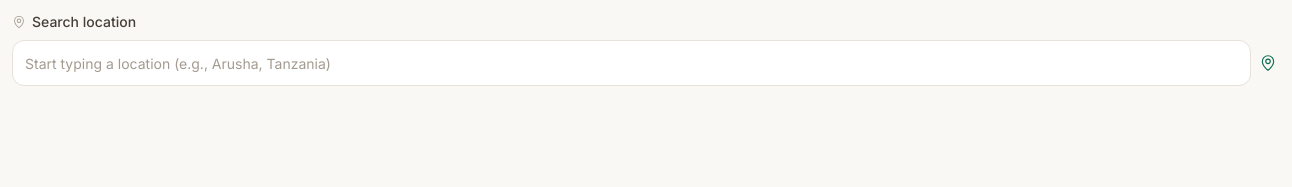
Test case: LocationAutocomplete › clears input when clear button is clicked
Step 1. Type "Ar" into the dropdown with placeholder "Start typing a location (e.g., Arusha, Tanzania)" → (632, 63), box [12,40,1251,86]
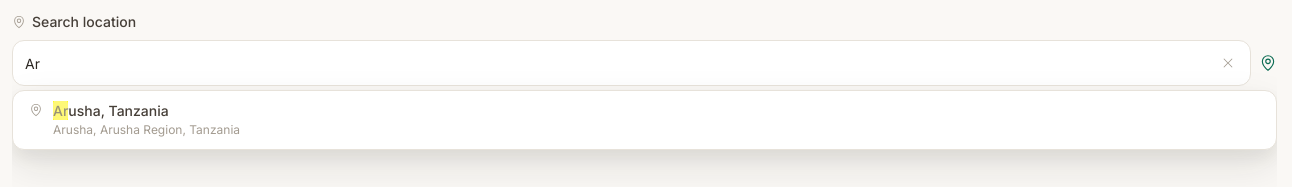
Step 2. Click the button named "Clear location search" → (1228, 63), box [1217,52,1239,74]
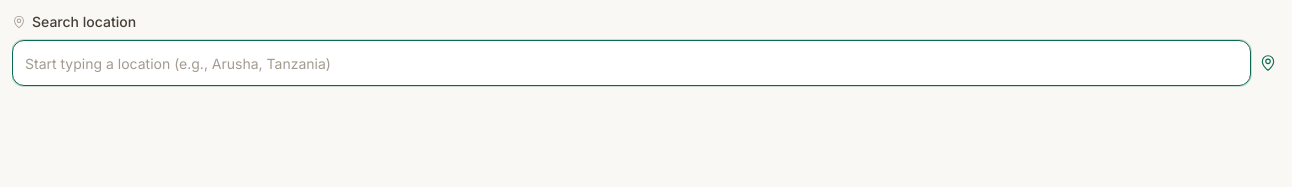
Expected: the dropdown with placeholder "Start typing a location (e.g., Arusha, Tanzania)" is empty, [12,40,1251,86]
